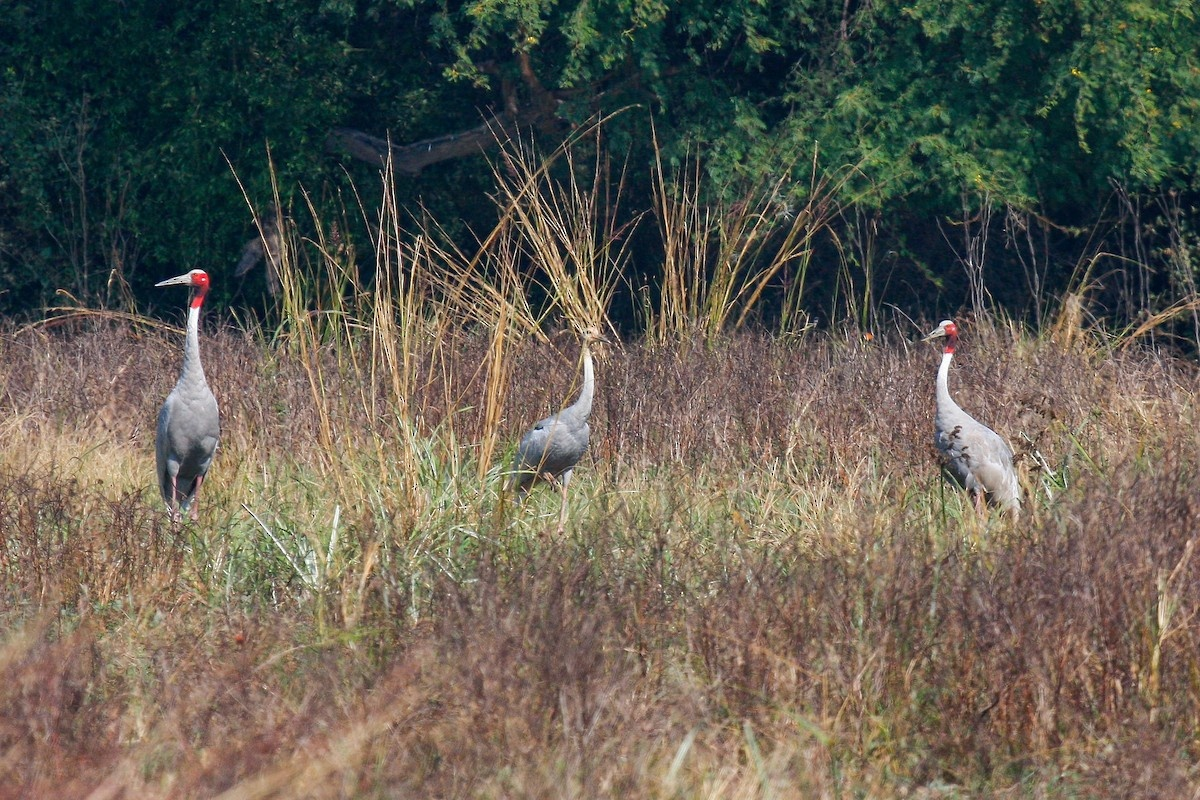crane: (920, 314, 1030, 529), (148, 263, 238, 504), (513, 321, 621, 500)
